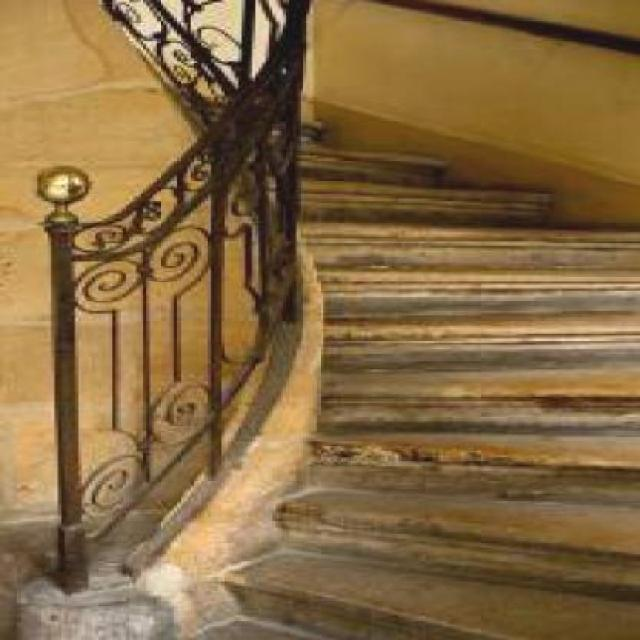stair: (57, 0, 636, 638)
